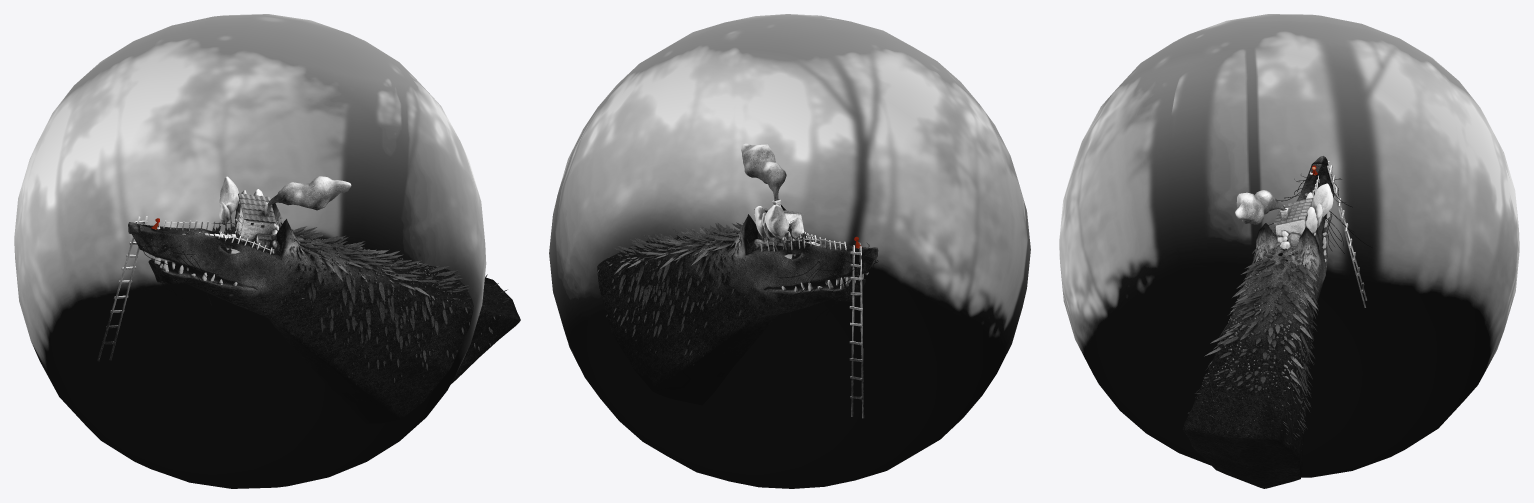
The model's file is littleRed.glb.
The picture shows the model from 3 angles, left to right: view 1: azimuth 30°, elevation 25°; view 2: azimuth 150°, elevation 25°; view 3: azimuth 270°, elevation 25°; orthographic projection. The views are drawn at different scales.
Parts seen in each view (by area): view 1: sky, character; view 2: sky, character; view 3: sky, character.
Boxes of the visible parts, x1,y1,x2,y2 form: sky: [14, 14, 486, 488]; character: [97, 176, 520, 423]; sky: [549, 14, 1030, 488]; character: [597, 143, 878, 418]; sky: [1059, 14, 1519, 477]; character: [1182, 156, 1372, 488].
Size of the model in its own units: 8.06 by 7.44 by 7.46.
3 materials, 2 textured.
